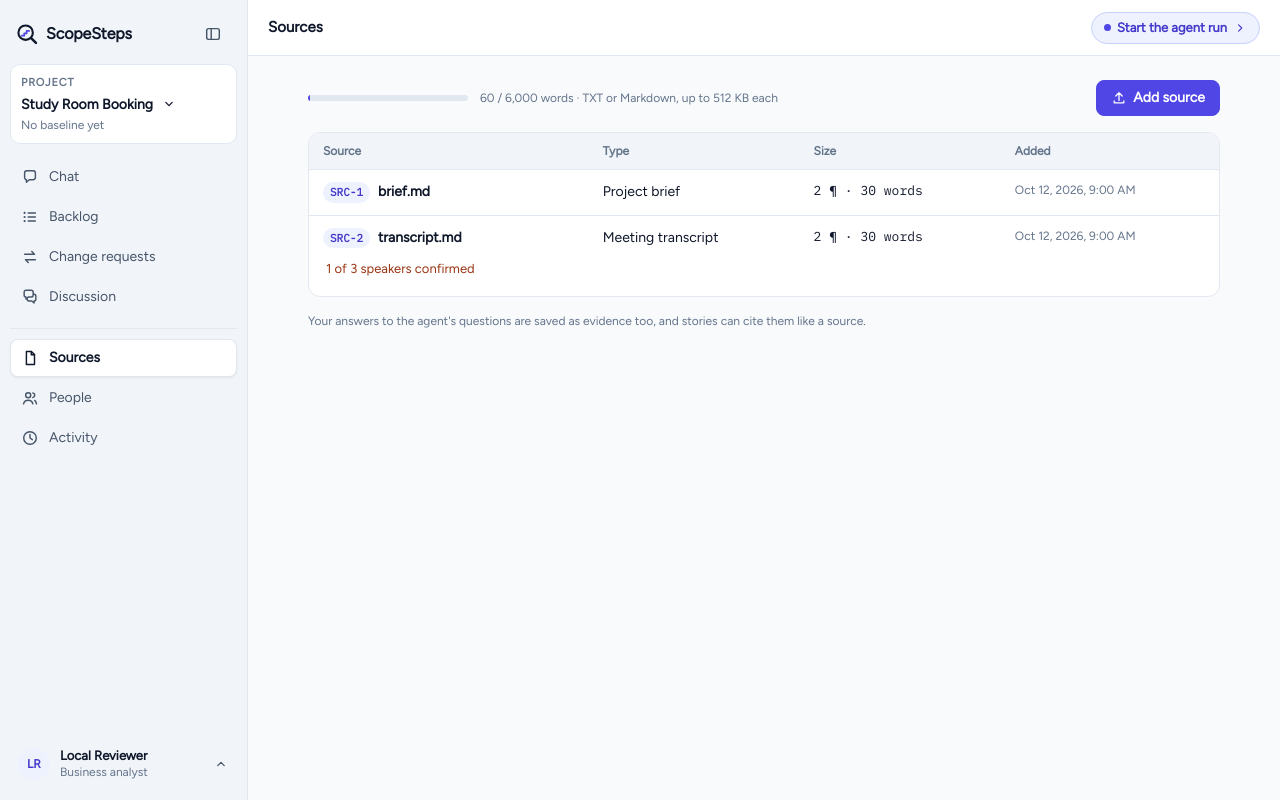
it: Who's who › lists each speaker with their turns, first line and status, nothing chosen for them
Click the button with aria-label "Who's who in SRC-2 transcript.md": {"x": 400, "y": 269} [315,254,486,284]
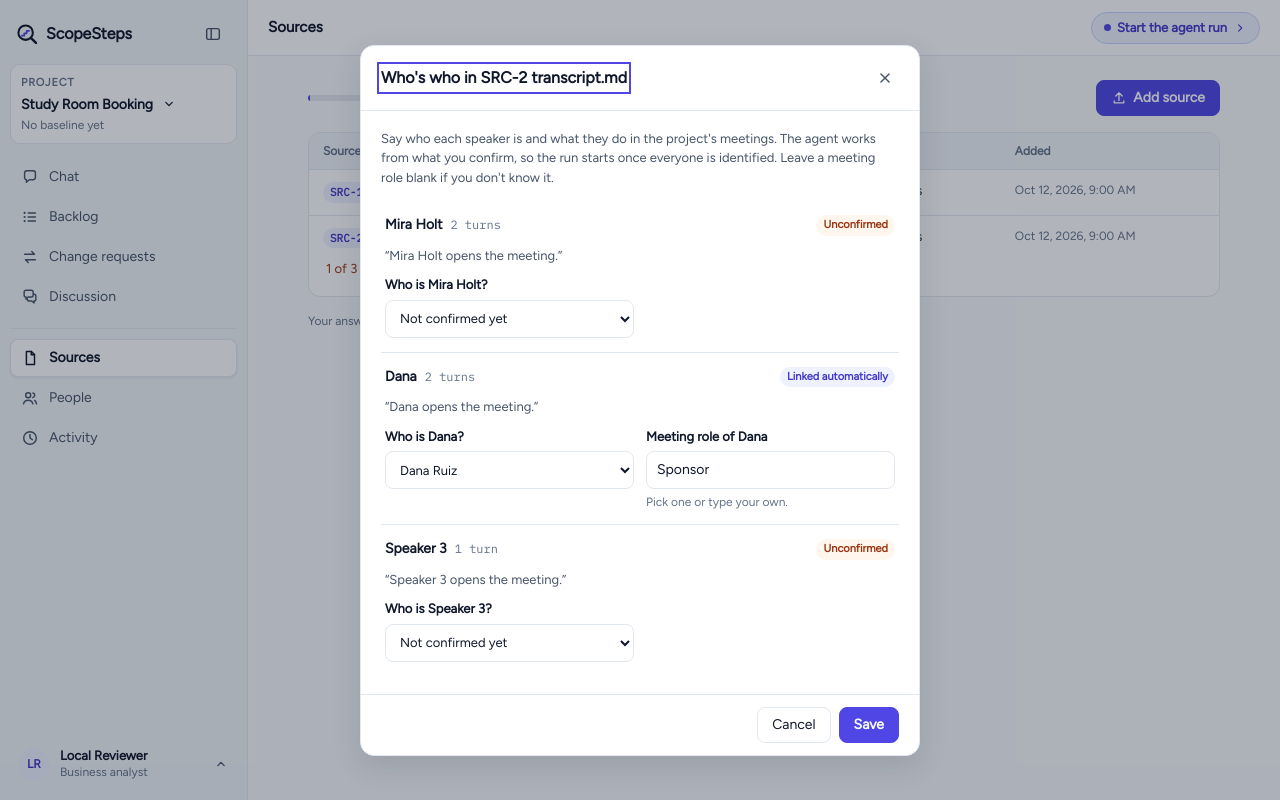
Expected: the 1st text "2 turns" is shown, [450,217,501,233]
Expected: the text "1 turn" is shown, [455,541,498,557]
Expected: the text "“Mira Holt opens the meeting.”" is shown, [384,246,562,262]
